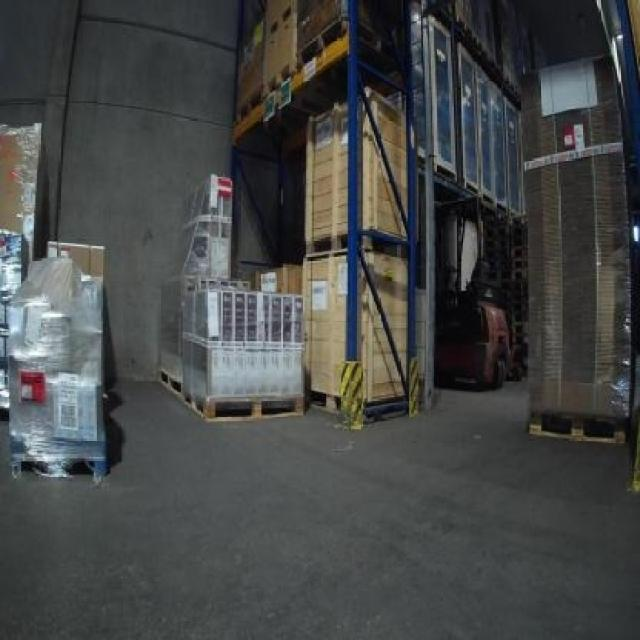floor: (0, 380, 637, 637)
pallets: (158, 174, 302, 417), (8, 257, 103, 474), (180, 278, 302, 415), (0, 228, 25, 412)
